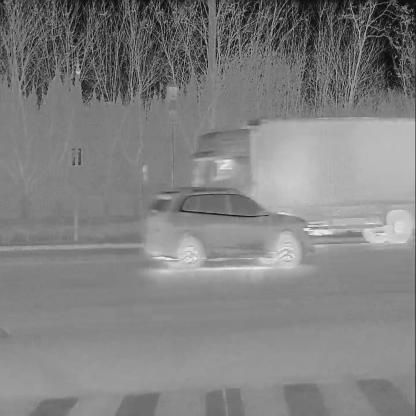car: (189, 112, 415, 247), (146, 183, 315, 276)
